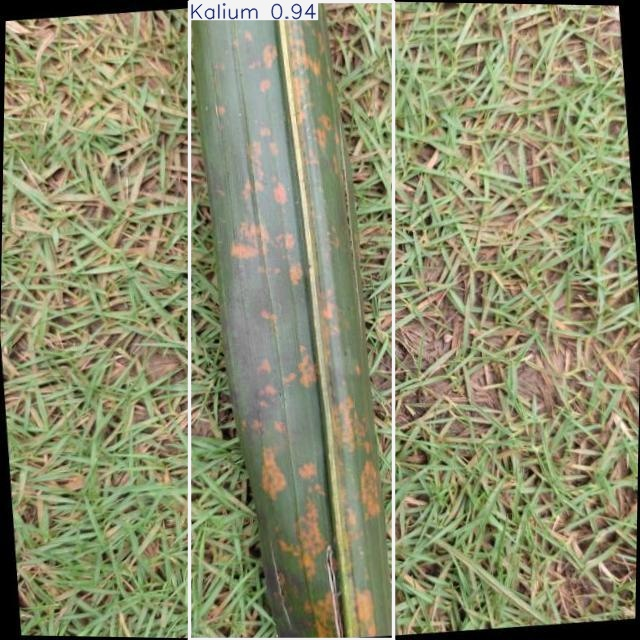Kalium: (189, 2, 394, 639)
